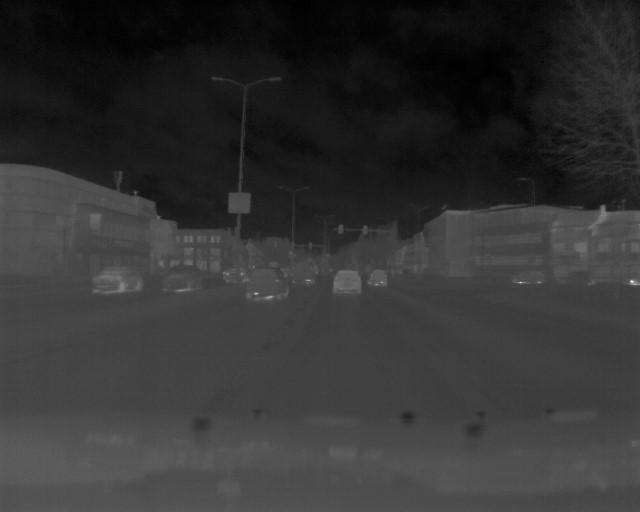car: (91, 264, 148, 294), (246, 266, 292, 303), (163, 265, 202, 293), (329, 270, 363, 296), (369, 269, 387, 287)
